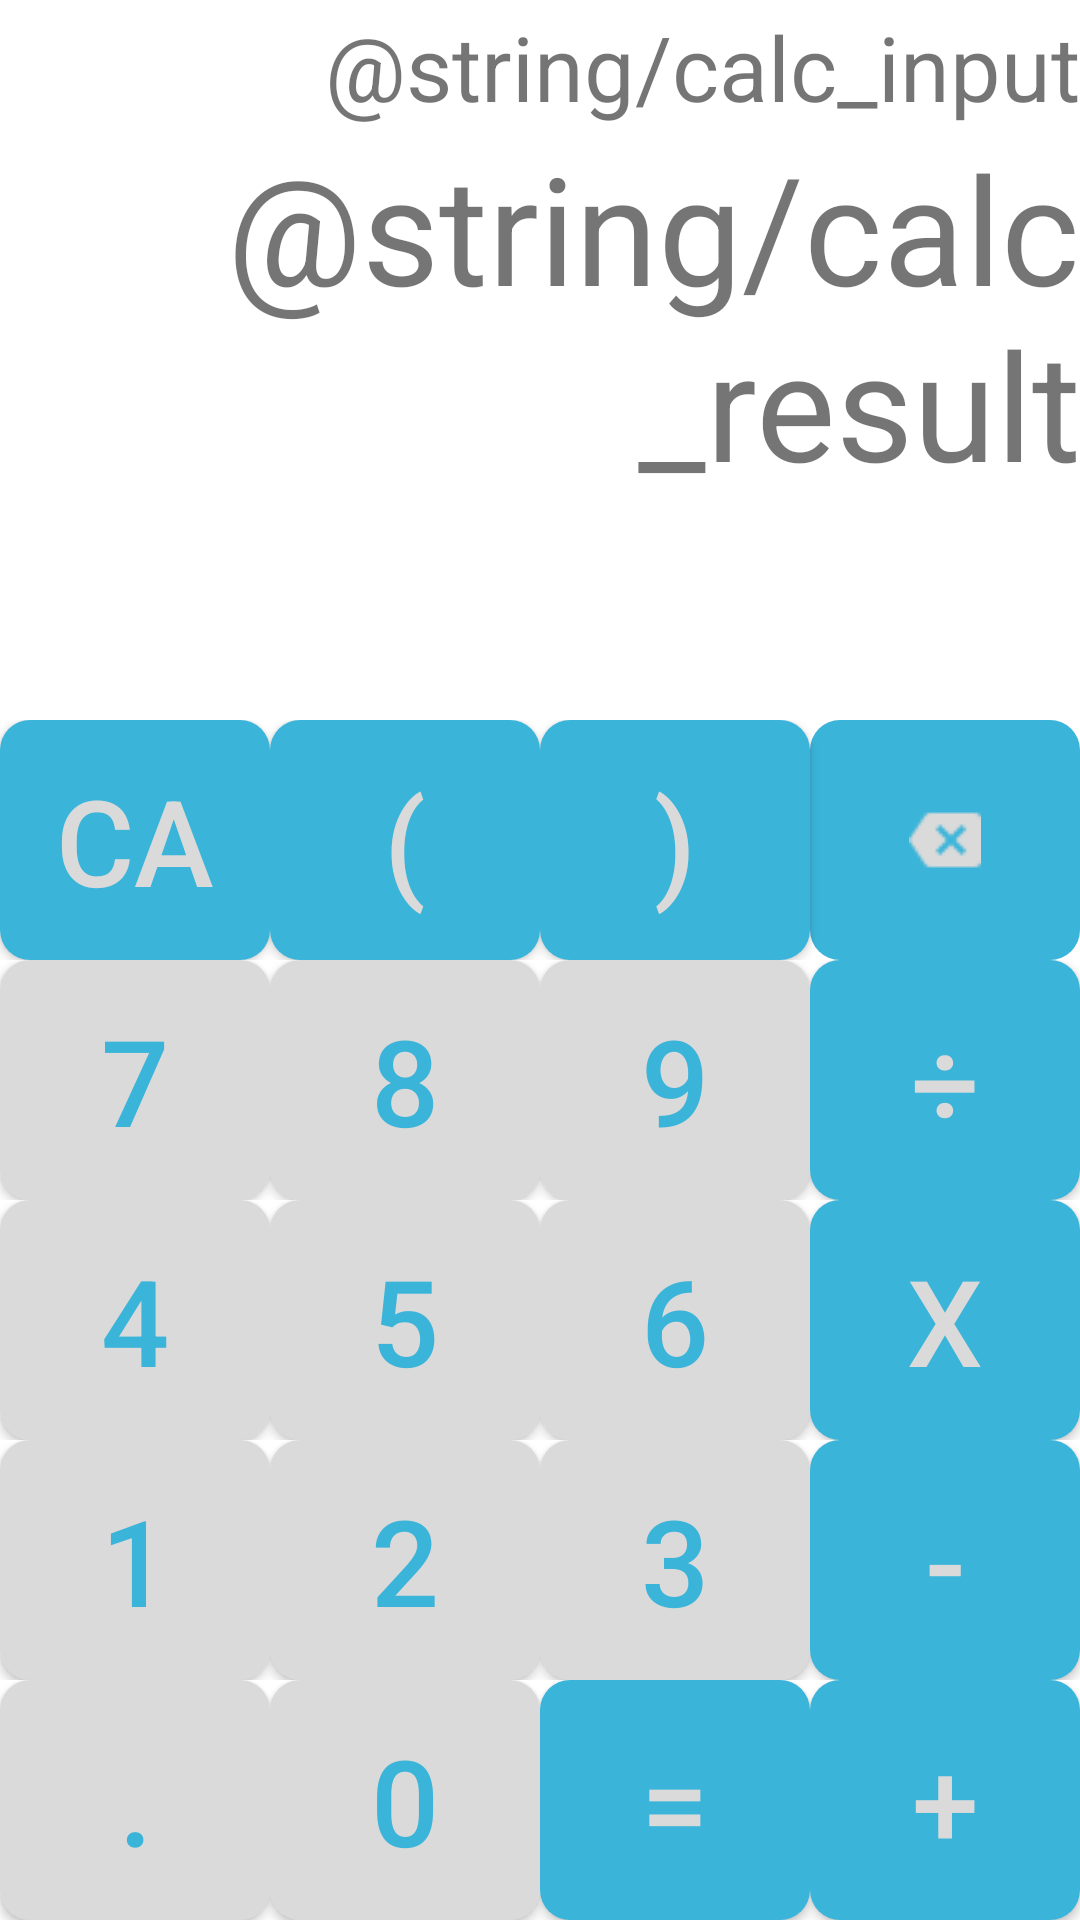

Named icons in this screenshot (1080px x 1920px) and their centers, (x=x, y=y):
backspace: (x=945, y=840)
